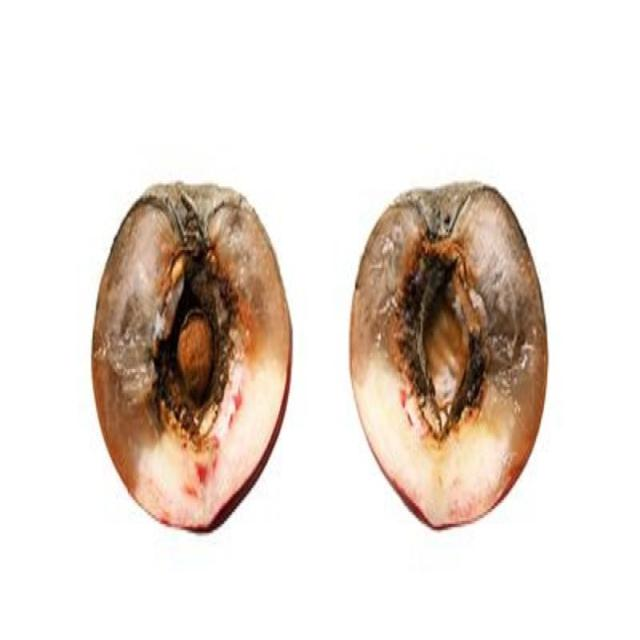Wet Waste: (90, 177, 296, 537), (349, 182, 550, 534)
